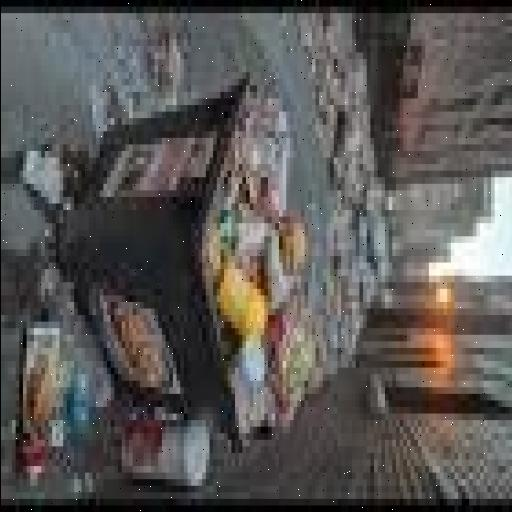poubelle_pleine: (28, 66, 334, 476)
